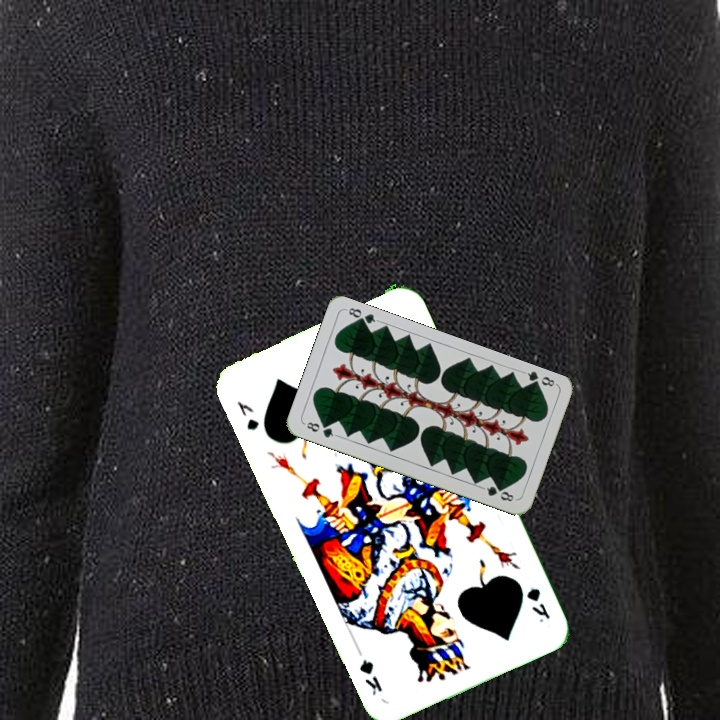G8: (520, 367, 559, 391), (301, 418, 340, 440)
GK: (522, 584, 553, 626), (232, 397, 262, 433)
